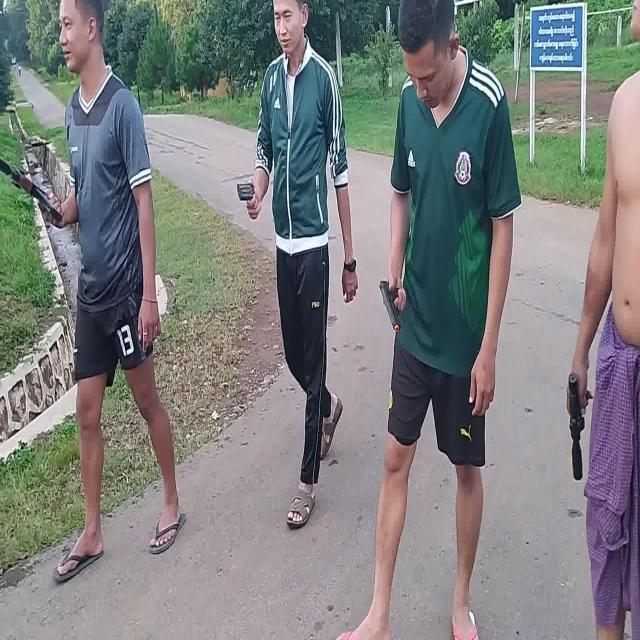gun: (1, 161, 61, 223), (379, 278, 402, 332)
